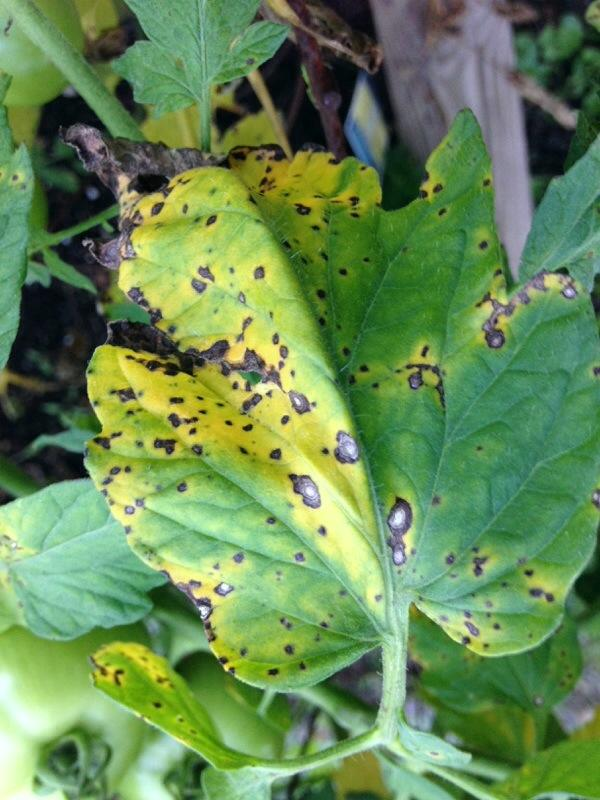Tomato Septoria leaf spot: (86, 122, 600, 693)
